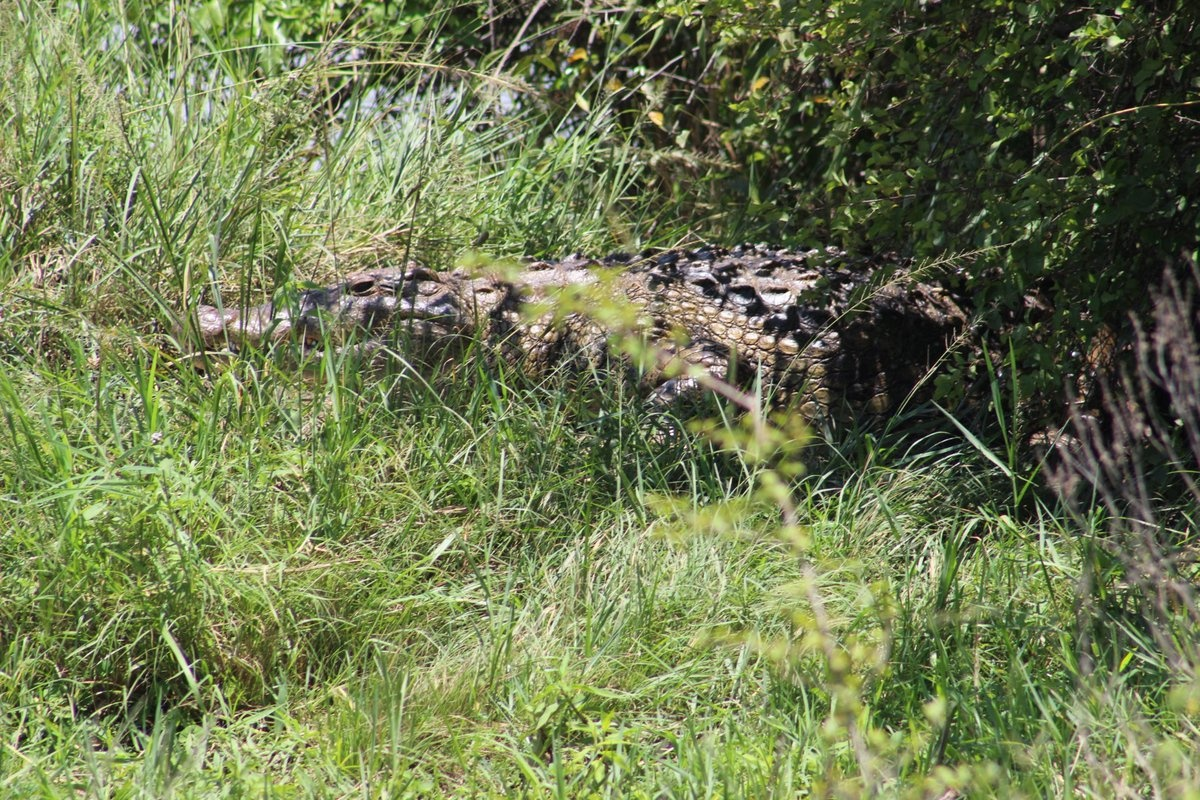crocodile: (171, 233, 1200, 513)
